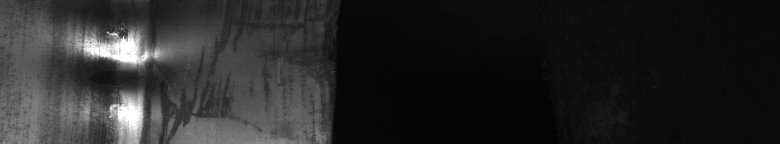ke: (75, 24, 213, 136)
